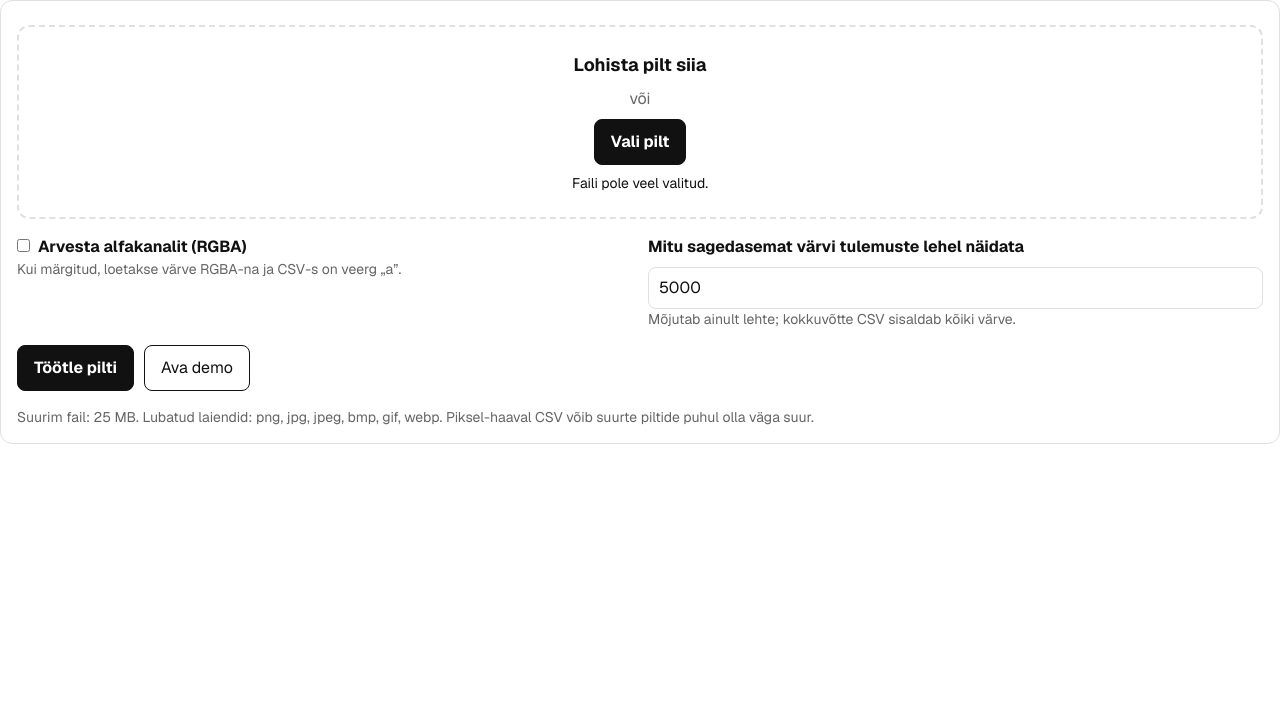
it: UploadForm › asks for a file when none is picked
The image size is (1280, 720).
What coordinates should you click on to do the following:
click the button "Töötle pilti"
I would click on:
 (76, 368)
Its box is [17,345,134,391].
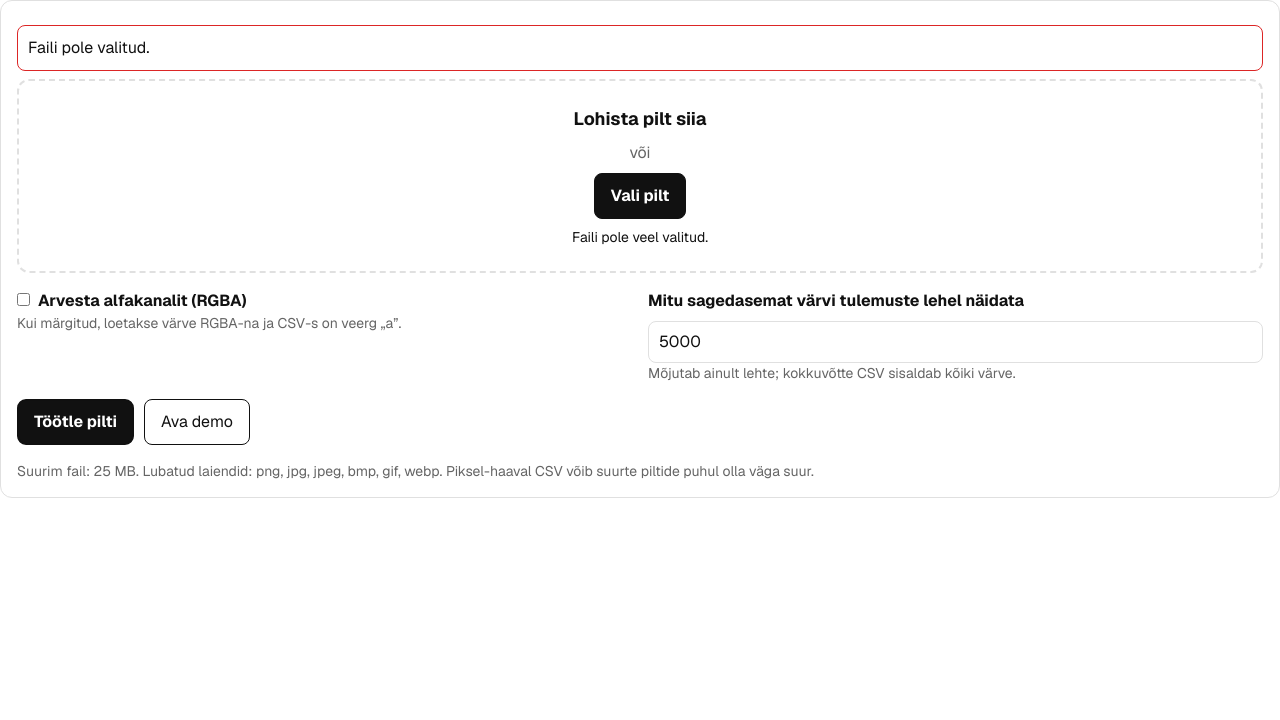
Now the message reads "Faili pole valitud.", box [28,37,150,58]
